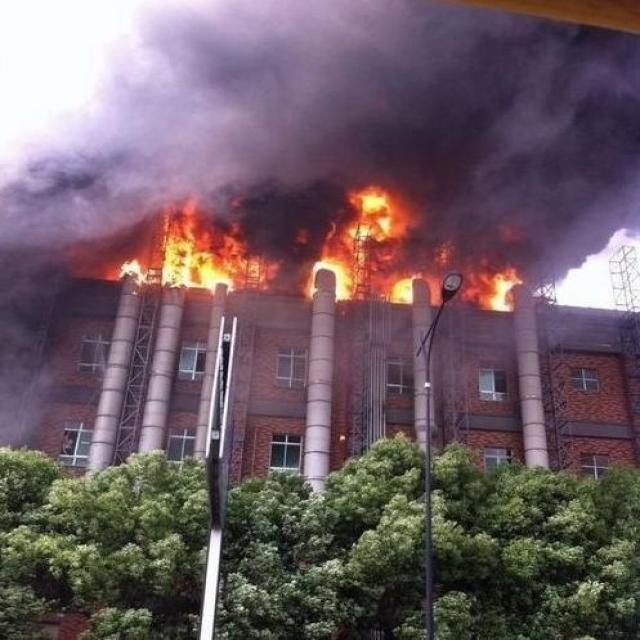Fire: (114, 195, 280, 292), (303, 185, 415, 297), (432, 227, 528, 310), (390, 273, 440, 299)
Smoke: (0, 0, 640, 447)
